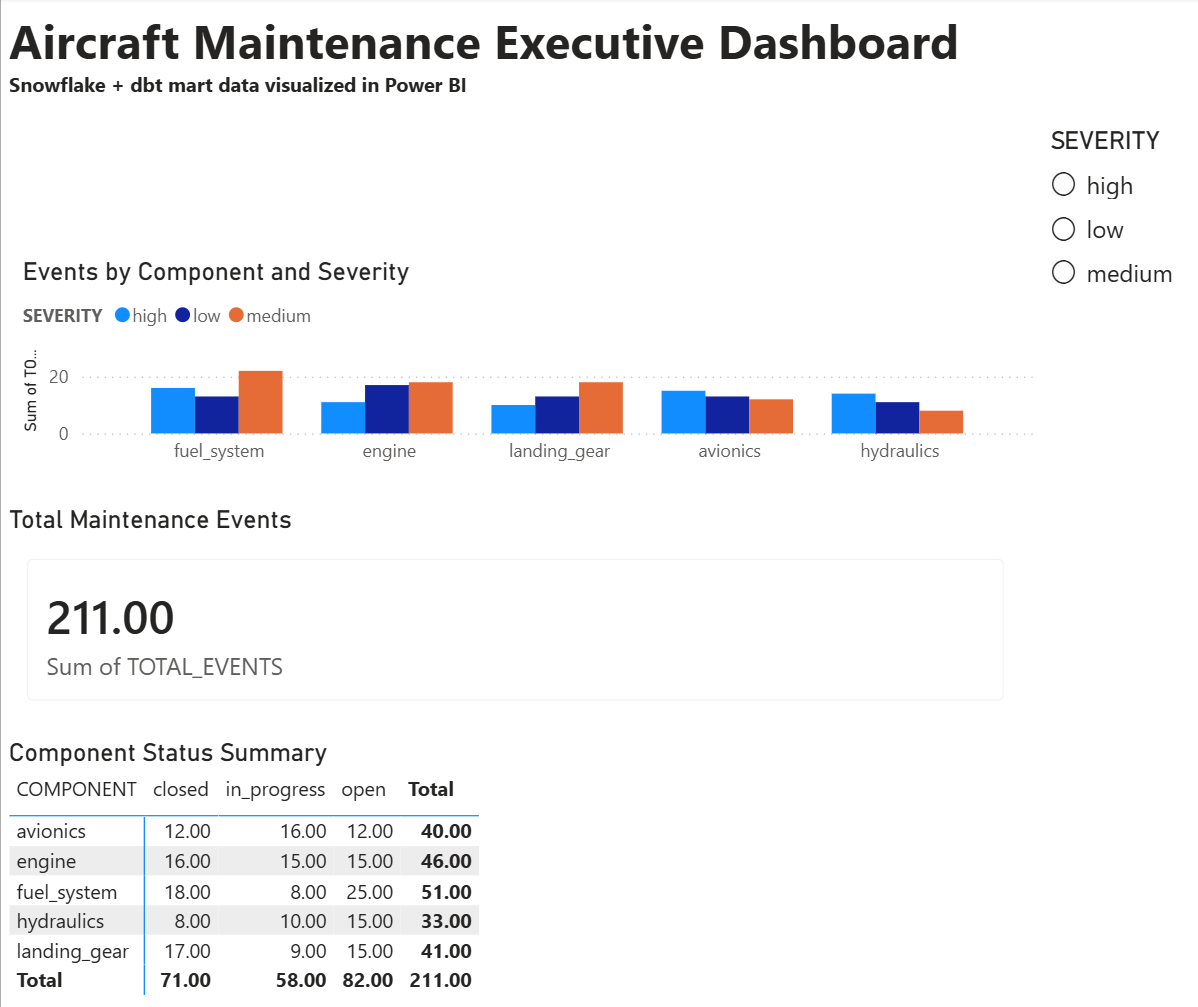

The dashboard page shown, as its layout file describes it:
{"tool":"powerbi","page":{"name":"Page 1","canvas":[1280,720],"ordinal":0},"visuals":[{"type":"textbox","box":[1.8,1.8,693.2,102.3],"z":0},{"type":"clusteredColumnChart","title":"Events by Component and Severity","fields":{"Y":["Sum(MART_MAINTENANCE_KPIS.TOTAL_EVENTS)"],"Category":["MART_MAINTENANCE_KPIS.COMPONENT"],"Series":["MART_MAINTENANCE_KPIS.SEVERITY"]},"box":[11,175.3,693.2,149.8],"z":1},{"type":"cardVisual","title":"Total Maintenance Events","fields":{"Data":["Sum(MART_MAINTENANCE_KPIS.TOTAL_EVENTS)"]},"box":[1.8,342.5,693.2,149.8],"z":2},{"type":"pivotTable","title":"Component Status Summary","fields":{"Rows":["MART_MAINTENANCE_KPIS.COMPONENT"],"Columns":["MART_MAINTENANCE_KPIS.STATUS"],"Values":["Sum(MART_MAINTENANCE_KPIS.TOTAL_EVENTS)"]},"box":[1.8,499.5,693.2,201.8],"z":3},{"type":"listSlicer","fields":{"Values":["MART_MAINTENANCE_KPIS.SEVERITY"]},"box":[704.1,86.8,300.5,300.5],"z":4}]}

Visuals, with their boxes on the page's 1280x720 design canvas (x1, y1, x2, y2). These are canvas units, not pixel positions in the 1198x1007 screenshot, which may show the page scaled, cropped or inside an application window:
textbox: [2,2,695,104]
"Events by Component and Severity" clusteredColumnChart: [11,175,704,325]
"Total Maintenance Events" cardVisual: [2,342,695,492]
"Component Status Summary" pivotTable: [2,500,695,701]
listSlicer - MART_MAINTENANCE_KPIS.SEVERITY: [704,87,1005,387]
